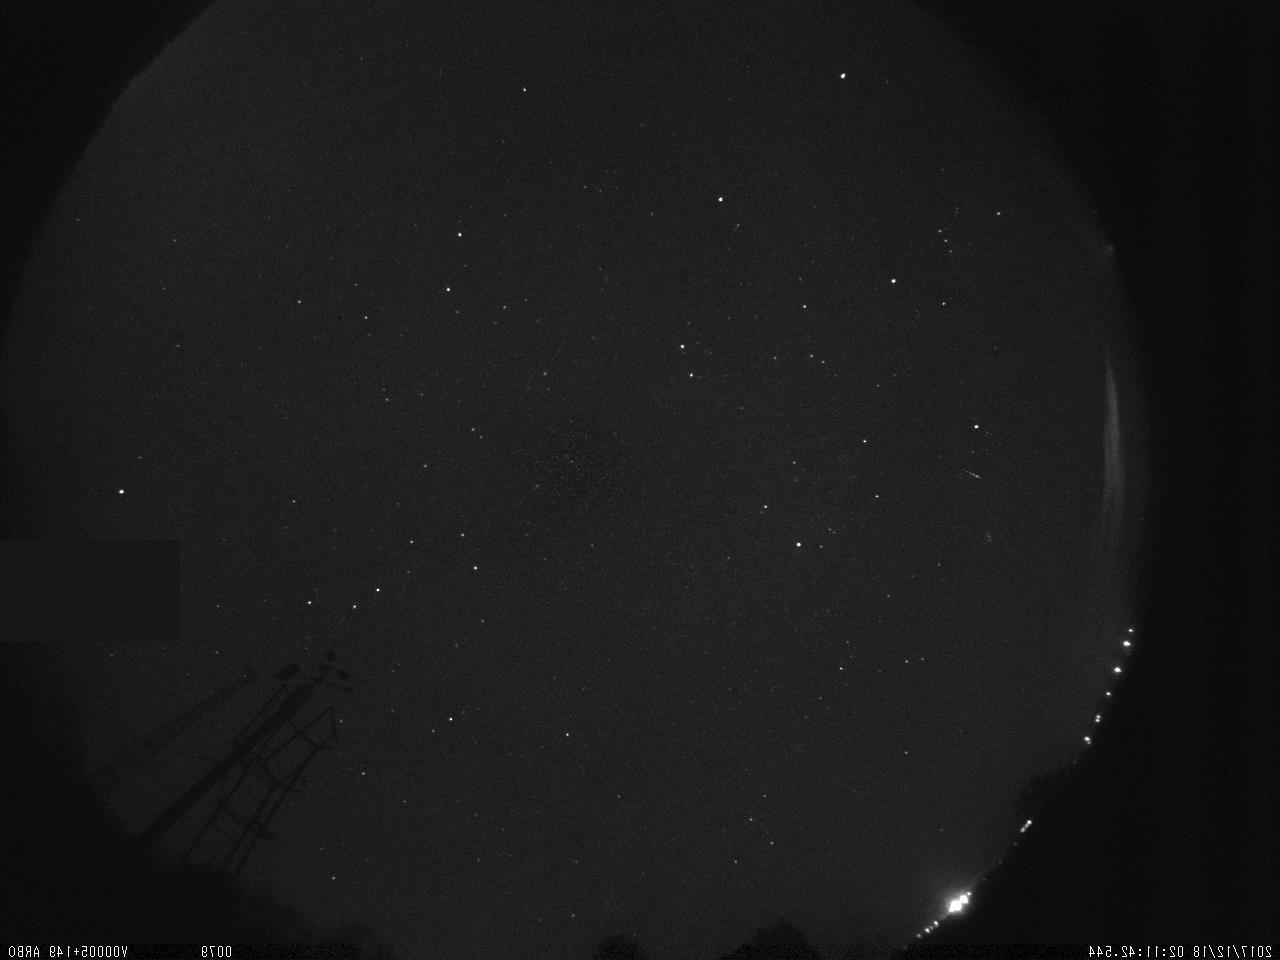meteor: (956, 465, 991, 487)
